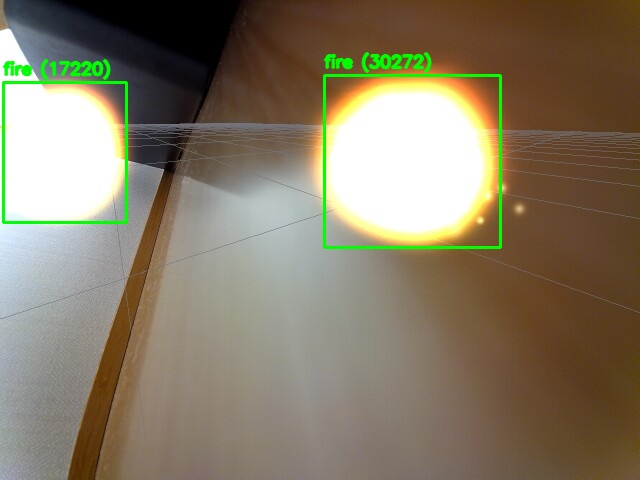fire: (324, 75, 500, 247), (3, 82, 126, 222)
